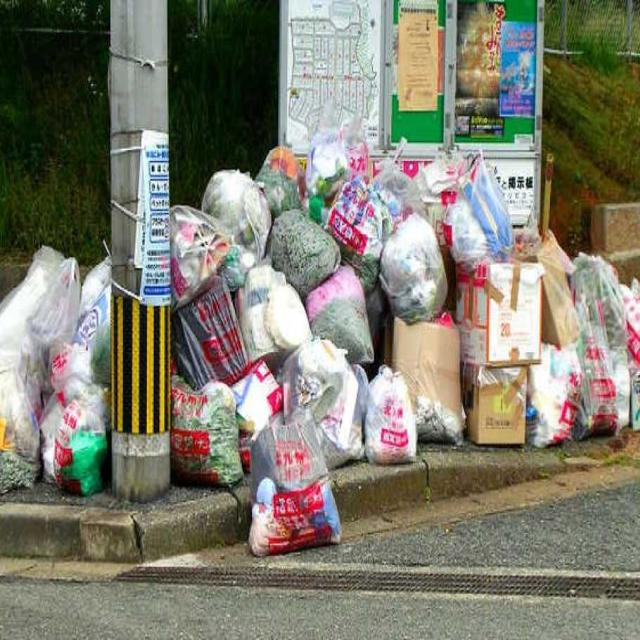sampah-detection: (167, 136, 640, 476), (0, 244, 115, 501), (246, 405, 341, 567)
